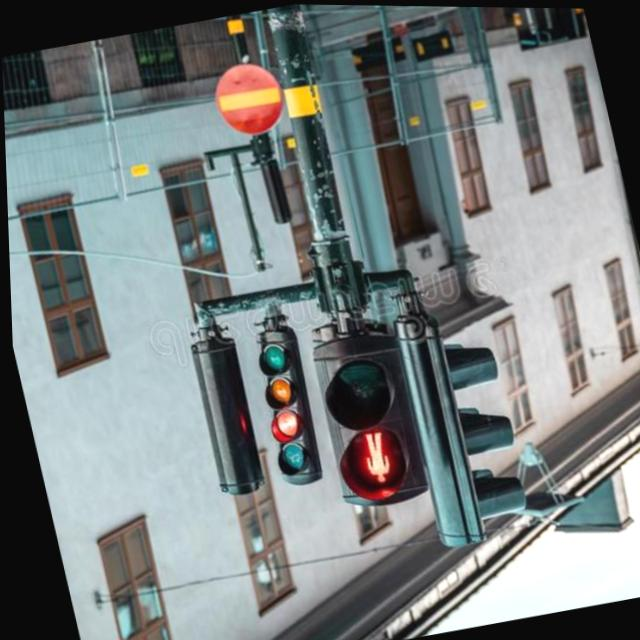red_light: (329, 421, 416, 502)
